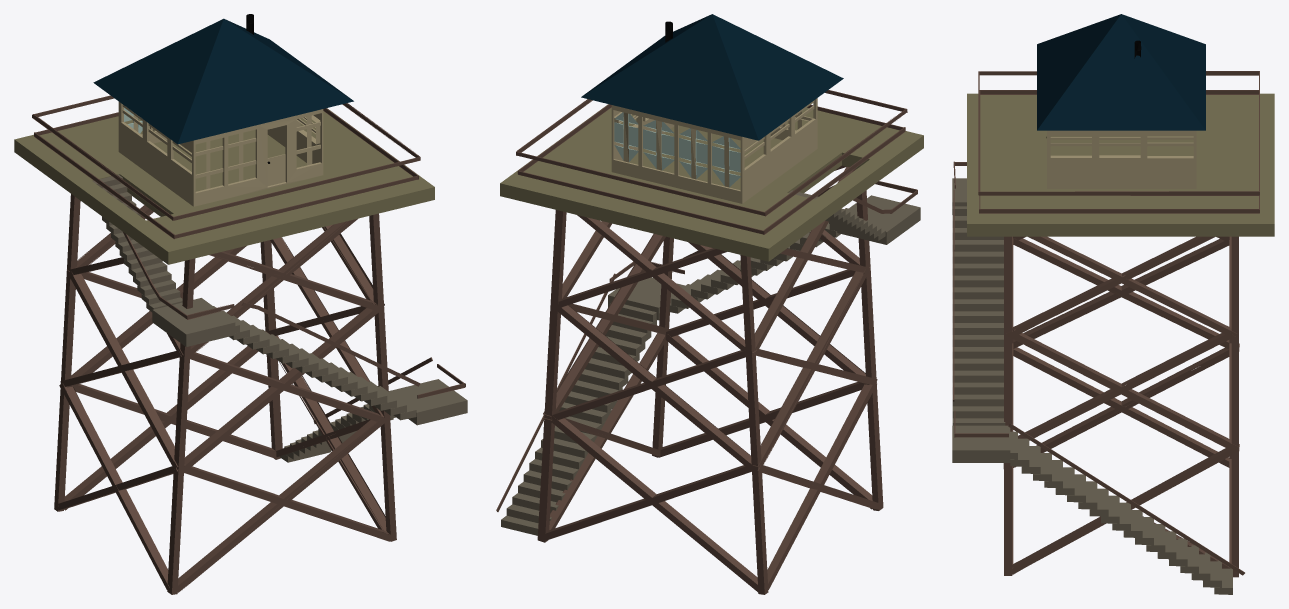
Rendered from fire-lookout.zfix-v14.lod1.glb.
3 views of the same model, side by side, from view 1: azimuth 30°, elevation 25°; view 2: azimuth 150°, elevation 25°; view 3: azimuth 270°, elevation 25° (orthographic).
Parts seen in each view (by area): view 1: Object_4; view 2: Object_4; view 3: Object_4.
Part boxes in pixels (x1,y1,x2,y2): Object_4: (14,14,467,594); Object_4: (496,14,923,594); Object_4: (952,14,1274,594).
Size of the model in its own units: 9.33 by 15.51 by 8.93.
